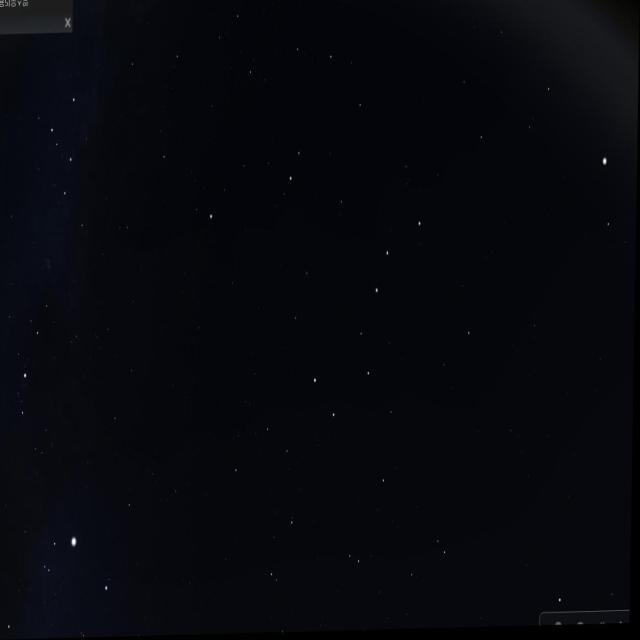cassiopeia: (38, 79, 101, 246)
ursa_major: (307, 207, 426, 434)
